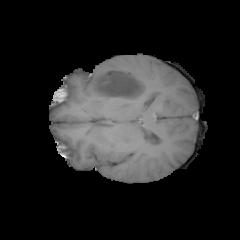glioma: (86, 69, 146, 167)
